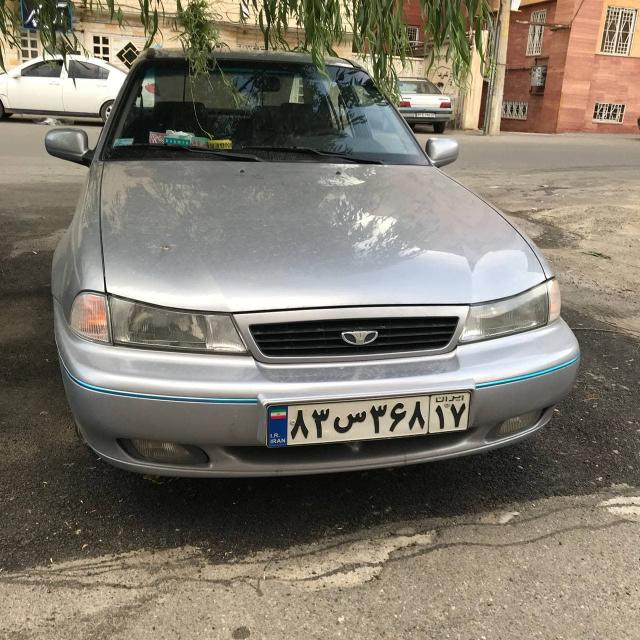Plates: (263, 387, 475, 448)
